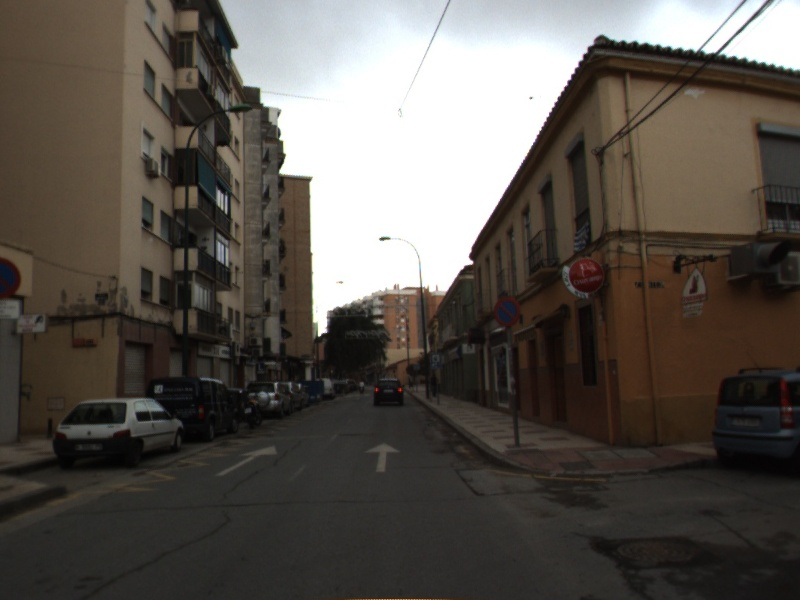STRAIGHT: (212, 443, 280, 479), (360, 440, 404, 474)
